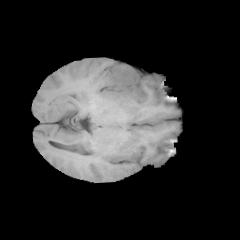glioma: (98, 62, 142, 98)
